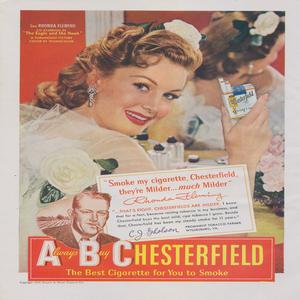cigarette: (96, 225, 105, 237)
